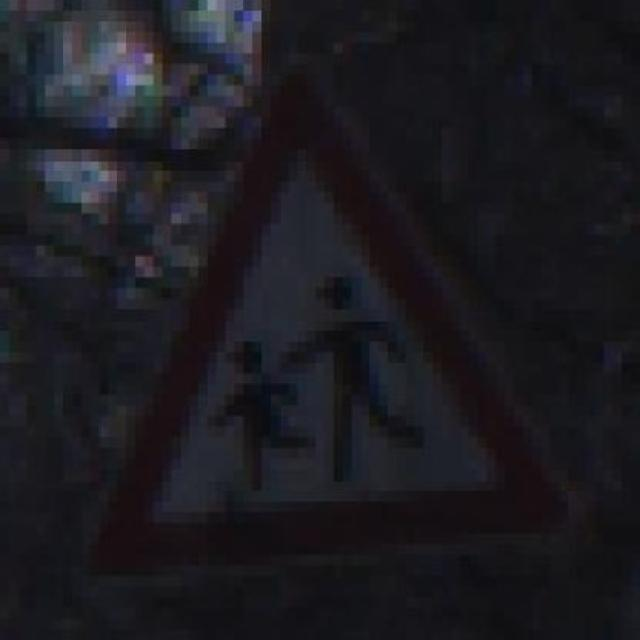Beware of children: (80, 53, 578, 565)
